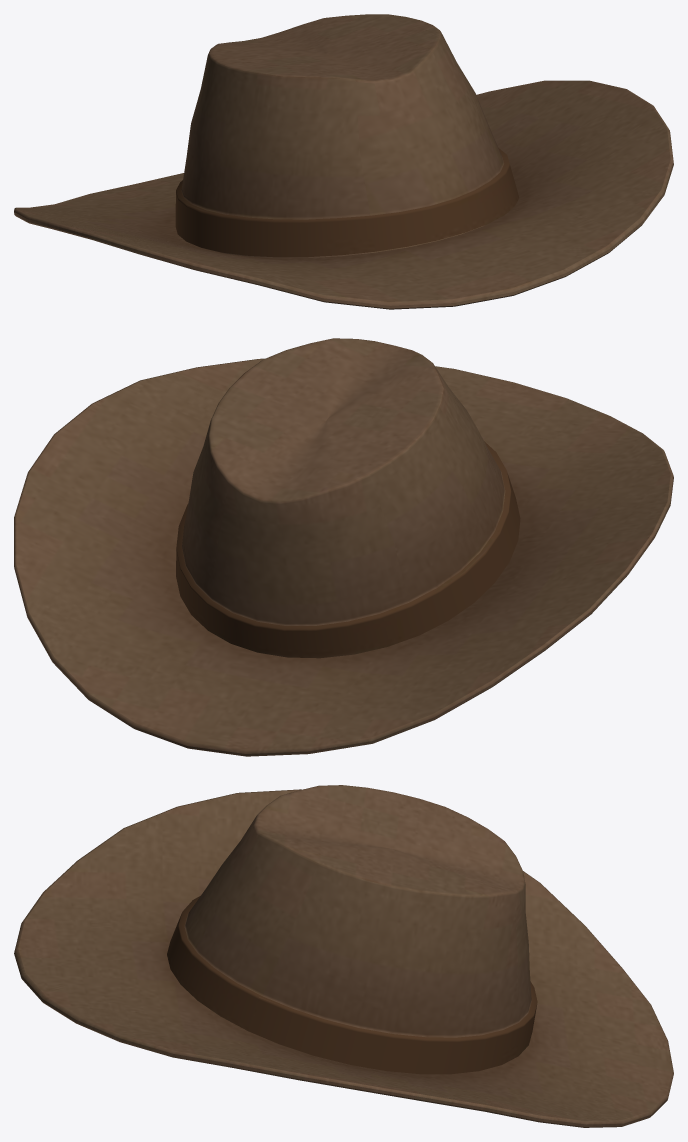
3 renders of one model, top to bottom at view 1: azimuth 30°, elevation 25°; view 2: azimuth 150°, elevation 25°; view 3: azimuth 270°, elevation 25°, orthographic.
Parts seen in each view (by area): view 1: ahat_01; view 2: ahat_01; view 3: ahat_01.
Boxes of the visible parts, bbox=[...] form: ahat_01: bbox=[14, 14, 673, 309]; ahat_01: bbox=[14, 338, 673, 756]; ahat_01: bbox=[14, 785, 673, 1127].
Size of the model in its own units: 107 by 45.68 by 106.
1 material, 1 textured.
